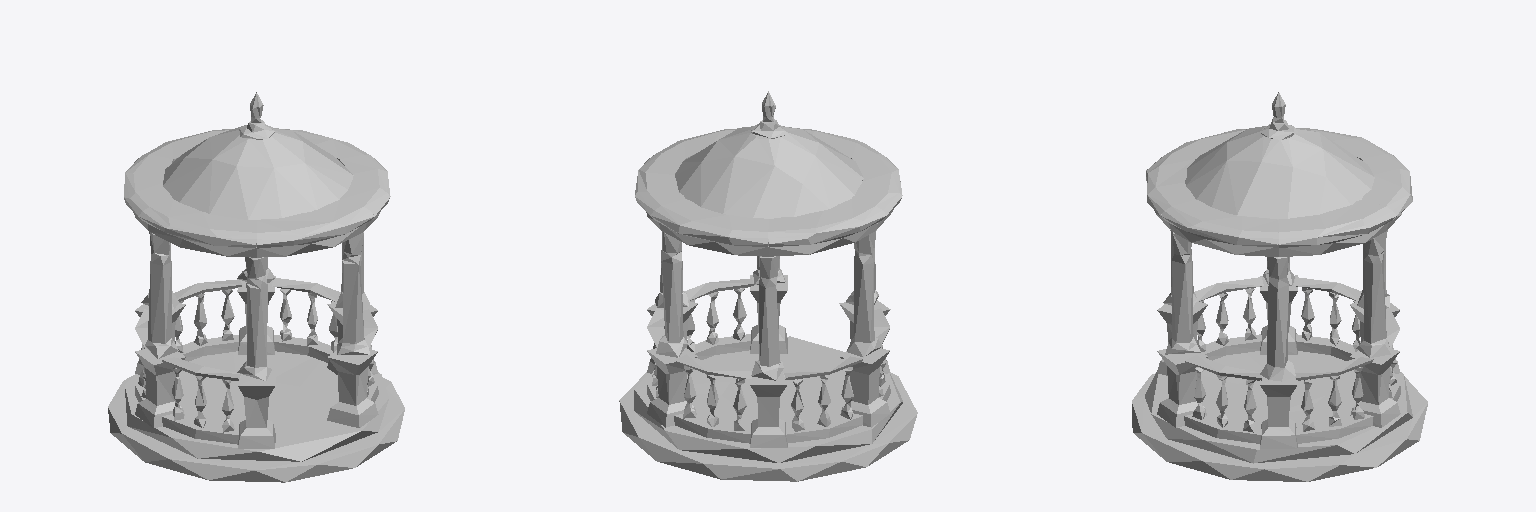
The model's file is Rotunda1_01 LOD3.obj.
3 views of the same model, side by side, from view 1: azimuth 30°, elevation 25°; view 2: azimuth 150°, elevation 25°; view 3: azimuth 270°, elevation 25° (orthographic).
Parts seen in each view (by area): view 1: Rotunda1_Cylinder; view 2: Rotunda1_Cylinder; view 3: Rotunda1_Cylinder.
Boxes of the visible parts, x1=… form: Rotunda1_Cylinder: x1=108, y1=92, x2=404, y2=482; Rotunda1_Cylinder: x1=619, y1=91, x2=917, y2=481; Rotunda1_Cylinder: x1=1132, y1=92, x2=1427, y2=481.
Bounding box in the file's own units: 2 × 2.46 × 2.01.